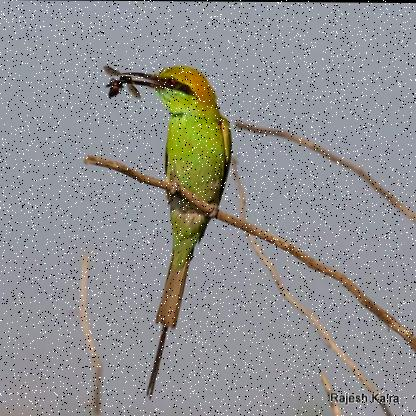Burung: (104, 64, 232, 400)
